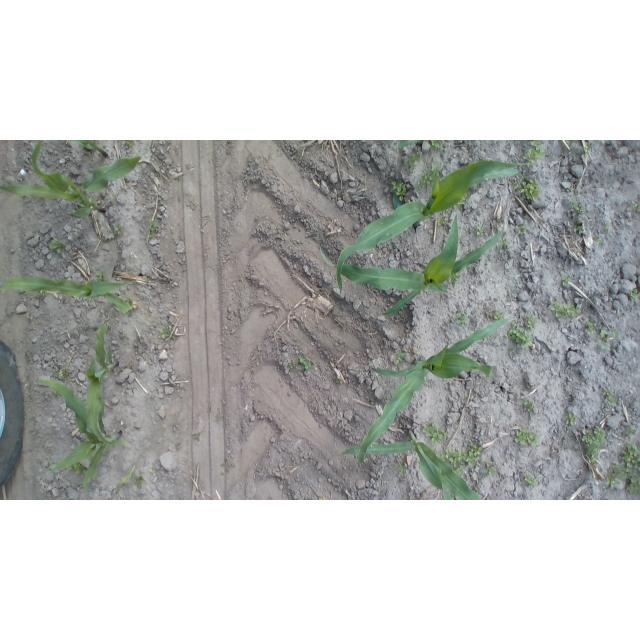Maize: (338, 160, 522, 297), (354, 315, 510, 470), (315, 213, 508, 320), (337, 424, 496, 500), (4, 140, 137, 221), (36, 374, 125, 495), (1, 271, 142, 314), (85, 320, 127, 439)
Weeds: (604, 444, 640, 495), (440, 447, 485, 478), (578, 424, 606, 467), (116, 464, 149, 491), (419, 420, 450, 445), (506, 322, 535, 348), (515, 177, 542, 203), (523, 141, 551, 166), (550, 302, 583, 321), (514, 427, 543, 447), (419, 163, 442, 187), (599, 327, 618, 352), (565, 140, 591, 157), (600, 388, 619, 410), (448, 191, 469, 209), (404, 153, 423, 172), (296, 354, 315, 372), (390, 183, 407, 202), (147, 220, 162, 240), (582, 318, 596, 337), (159, 325, 178, 339), (519, 398, 535, 414), (50, 239, 67, 254), (483, 461, 498, 477), (570, 199, 585, 215), (454, 314, 473, 326), (525, 313, 538, 330), (523, 473, 537, 488), (517, 222, 531, 237), (72, 463, 89, 475), (396, 462, 409, 477), (392, 352, 408, 364), (112, 224, 126, 237), (429, 140, 444, 152), (564, 412, 577, 425), (436, 215, 448, 228), (629, 288, 640, 302), (493, 310, 507, 321), (120, 140, 137, 149), (475, 223, 485, 238), (213, 410, 225, 422), (499, 238, 510, 251), (592, 235, 605, 246), (625, 423, 634, 438), (150, 465, 162, 476), (575, 223, 585, 236), (601, 225, 612, 236), (96, 269, 107, 280), (561, 276, 573, 286), (632, 200, 640, 214), (58, 369, 67, 381), (193, 434, 203, 444), (172, 175, 182, 185), (507, 345, 516, 355), (188, 202, 198, 211)
